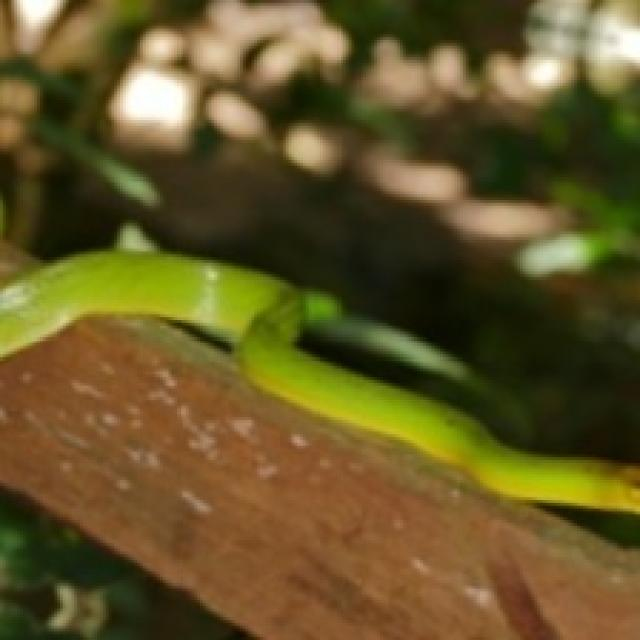red-tailed green ratsnake: (0, 251, 637, 566)
